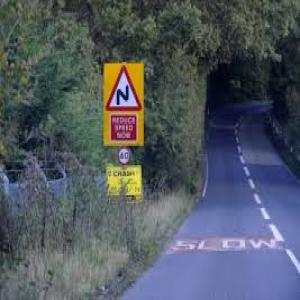bend: (103, 61, 147, 114)
